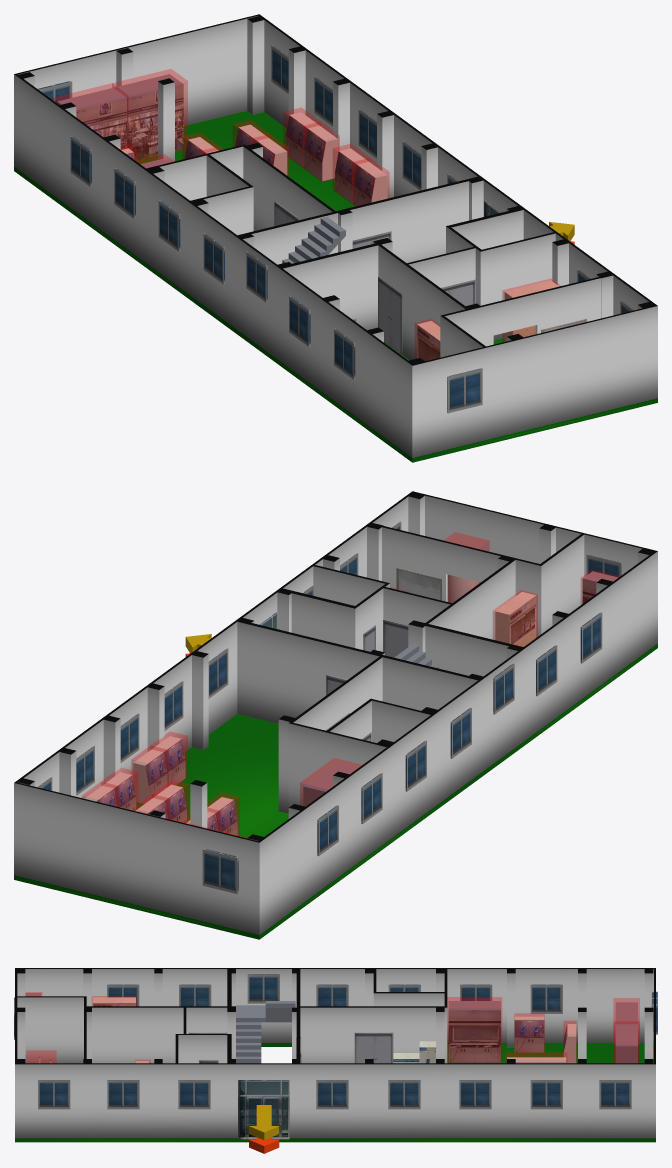
File: soulbrain_T3-2-1F.glb
3 renders of one model, top to bottom at view 1: azimuth 30°, elevation 25°; view 2: azimuth 150°, elevation 25°; view 3: azimuth 270°, elevation 25°, orthographic. The views are drawn at different scales.
Visible parts, largest first — view 1: Line005, Group304, Box179, Box126, equipment-T3-2-1F-008, Box190, equipment-T3-2-1F-007, equipment-T3-2-1F-016, equipment-T3-2-1F-018, UTypeStair001, equipment-T3-2-1F-017, equipment-T3-2-1F-015 (+7 smaller); view 2: Line005, Box179, Box126, Group304, equipment-T3-2-1F-004, Box2096, equipment-T3-2-1F-017, Box190, equipment-T3-2-1F-018, equipment-T3-2-1F-006, equipment-T3-2-1F-016, equipment-T3-2-1F-014 (+2 smaller); view 3: Line005, Box179, Group304, Box126, Box190, equipment-T3-2-1F-006, UTypeStair001, equipment-T3-2-1F-009, equipment-T3-2-1F-008, equipment-T3-2-1F-007, arrow_Y_1_T3-2-1F, equipment-T3-2-1F-010 (+6 smaller).
Boxes of the visible parts, x1,y1,x2,y2 form: Line005: [14, 14, 657, 457]; Group304: [57, 74, 387, 321]; Box179: [38, 45, 633, 413]; Box126: [14, 110, 657, 462]; equipment-T3-2-1F-008: [112, 69, 187, 161]; Box190: [274, 201, 500, 354]; equipment-T3-2-1F-007: [53, 83, 128, 149]; equipment-T3-2-1F-016: [303, 122, 339, 181]; equipment-T3-2-1F-018: [352, 158, 389, 206]; UTypeStair001: [282, 217, 345, 263]; equipment-T3-2-1F-017: [333, 144, 369, 203]; equipment-T3-2-1F-015: [283, 108, 320, 167]; Line005: [14, 491, 657, 934]; Box179: [38, 521, 621, 894]; Box126: [14, 643, 657, 939]; Group304: [84, 571, 618, 835]; equipment-T3-2-1F-004: [493, 590, 537, 646]; Box2096: [495, 592, 536, 646]; equipment-T3-2-1F-017: [131, 745, 168, 803]; Box190: [259, 612, 408, 741]; equipment-T3-2-1F-018: [151, 731, 187, 785]; equipment-T3-2-1F-006: [300, 758, 361, 806]; equipment-T3-2-1F-016: [101, 768, 138, 810]; equipment-T3-2-1F-014: [152, 780, 188, 822]; Line005: [15, 968, 655, 1138]; Box179: [14, 974, 657, 1109]; Group304: [25, 993, 637, 1063]; Box126: [15, 1043, 655, 1142]; Box190: [188, 1032, 393, 1139]; equipment-T3-2-1F-006: [447, 997, 501, 1062]; UTypeStair001: [236, 1001, 295, 1063]; equipment-T3-2-1F-009: [514, 1013, 544, 1052]; equipment-T3-2-1F-008: [613, 1021, 639, 1062]; equipment-T3-2-1F-007: [613, 998, 639, 1062]; arrow_Y_1_T3-2-1F: [249, 1105, 279, 1140]; equipment-T3-2-1F-010: [563, 1021, 576, 1062].
Size of the model in its own units: 13.76 by 4 by 29.94.
25 materials, 19 textured.
